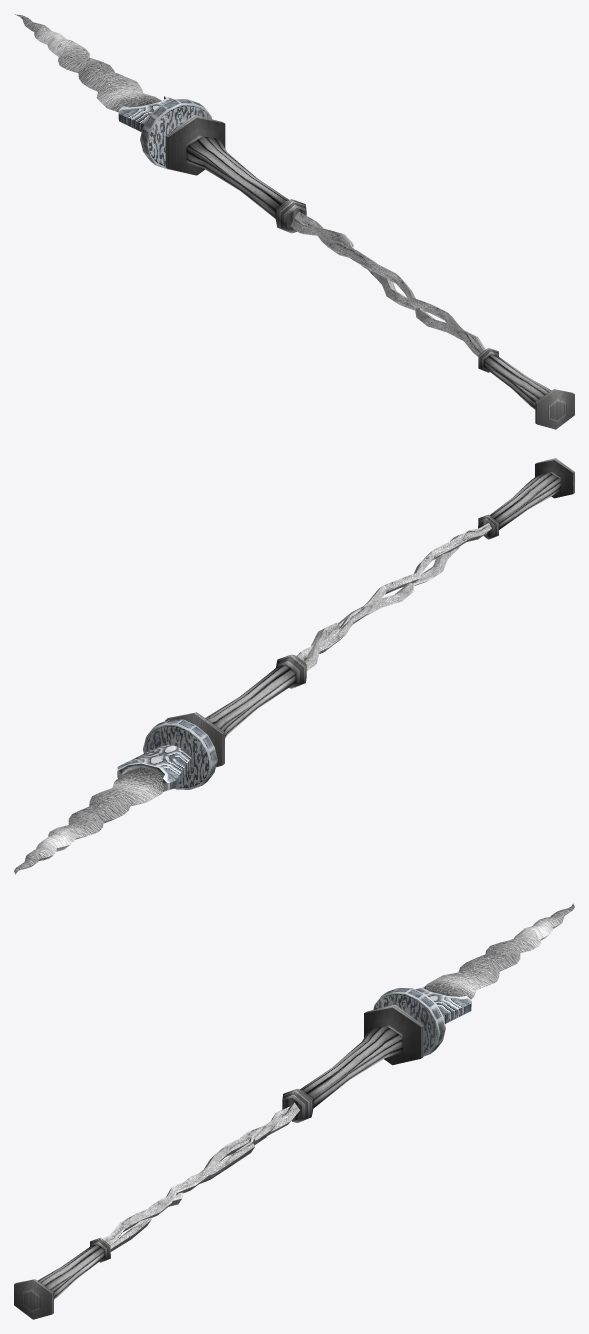
The model's file is spear_ginkazura_gnkazura.glb.
3 renders of one model, top to bottom at view 1: azimuth 30°, elevation 25°; view 2: azimuth 150°, elevation 25°; view 3: azimuth 330°, elevation 25°, orthographic.
Size of the model in its own units: 0.2075 by 0.1892 by 2.83.
1 material, 1 textured.
